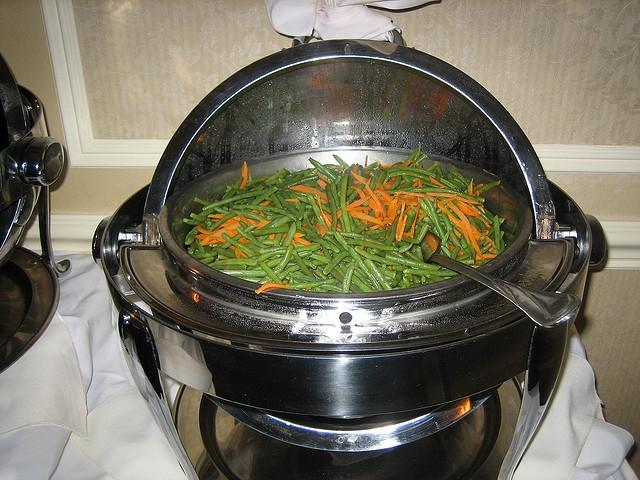carrot: (392, 190, 462, 228), (448, 201, 482, 259), (199, 222, 242, 245), (362, 188, 388, 218), (290, 185, 330, 204), (426, 192, 482, 205), (348, 210, 386, 228), (364, 184, 384, 213), (255, 283, 293, 294), (395, 201, 405, 240), (322, 210, 341, 228), (429, 176, 453, 190), (346, 196, 372, 208), (251, 200, 272, 214), (424, 232, 440, 250), (398, 215, 408, 242), (239, 162, 248, 190), (235, 236, 246, 258), (367, 197, 380, 211), (314, 222, 326, 236), (440, 196, 458, 205), (392, 160, 412, 168), (293, 238, 312, 246), (456, 202, 472, 211), (240, 216, 252, 227), (409, 196, 422, 206), (467, 178, 474, 196), (344, 206, 372, 210), (256, 220, 270, 228), (476, 255, 498, 260), (472, 230, 490, 236), (218, 222, 234, 228), (410, 179, 422, 187), (223, 218, 240, 223), (384, 179, 396, 186), (212, 237, 228, 242), (352, 163, 359, 173), (474, 183, 484, 190), (290, 240, 298, 248), (284, 198, 300, 202), (366, 176, 372, 186), (269, 234, 277, 240)
green bean: (246, 243, 321, 270), (346, 244, 384, 291), (395, 166, 462, 191), (208, 224, 258, 256), (256, 244, 294, 284), (424, 194, 450, 251), (203, 189, 269, 211), (247, 250, 312, 270), (320, 265, 364, 293), (232, 204, 298, 222), (406, 188, 479, 202), (278, 260, 326, 281), (257, 216, 295, 242), (450, 222, 476, 260), (364, 258, 394, 290), (386, 253, 442, 270), (339, 264, 373, 292), (306, 193, 330, 231), (221, 232, 257, 257), (354, 246, 401, 265), (246, 186, 278, 212), (330, 182, 346, 232), (275, 193, 303, 221), (339, 173, 352, 232), (322, 250, 352, 275), (236, 226, 270, 248), (292, 250, 316, 278), (308, 157, 336, 181), (326, 184, 338, 240), (346, 240, 399, 252), (258, 260, 284, 284), (389, 170, 432, 183), (382, 216, 400, 246), (446, 166, 470, 188), (210, 213, 238, 231), (272, 173, 304, 188), (245, 243, 288, 254), (403, 268, 460, 276), (284, 176, 319, 189), (208, 258, 258, 267), (280, 189, 299, 212), (288, 271, 325, 282), (267, 184, 283, 209), (250, 226, 290, 236), (353, 269, 372, 290), (226, 185, 248, 202), (323, 237, 346, 253), (306, 236, 332, 250), (408, 142, 422, 168), (260, 239, 305, 247), (334, 232, 352, 252), (241, 209, 268, 222), (282, 222, 296, 247), (218, 270, 268, 277), (476, 180, 500, 194), (288, 258, 316, 270), (325, 230, 367, 238), (264, 168, 286, 183), (286, 192, 302, 212), (342, 266, 354, 292), (309, 252, 333, 264), (416, 222, 429, 244), (376, 266, 396, 280), (471, 216, 487, 233), (369, 170, 382, 190), (404, 250, 424, 263), (398, 215, 408, 241), (493, 214, 500, 250), (333, 154, 350, 168), (302, 226, 320, 238), (452, 174, 467, 188), (190, 212, 210, 222), (320, 283, 342, 292), (184, 218, 206, 227), (388, 176, 402, 190), (278, 170, 291, 184), (222, 188, 236, 200), (398, 243, 413, 254), (283, 172, 298, 183), (392, 264, 412, 272), (450, 246, 462, 259), (320, 171, 334, 182), (416, 244, 424, 262), (194, 198, 212, 206), (252, 182, 266, 192), (425, 162, 439, 172), (455, 253, 472, 261), (326, 168, 342, 176), (382, 172, 391, 186), (297, 196, 311, 205), (191, 253, 211, 259), (311, 271, 324, 280), (442, 230, 449, 246), (218, 254, 233, 260), (285, 262, 298, 268), (336, 184, 342, 197), (368, 209, 375, 218), (405, 275, 414, 282), (296, 220, 302, 230), (234, 199, 244, 205), (206, 260, 215, 266), (374, 261, 382, 267), (384, 276, 392, 281), (322, 202, 330, 207), (500, 231, 504, 241), (440, 221, 446, 227), (422, 276, 426, 285), (375, 238, 383, 242), (413, 166, 417, 168)
